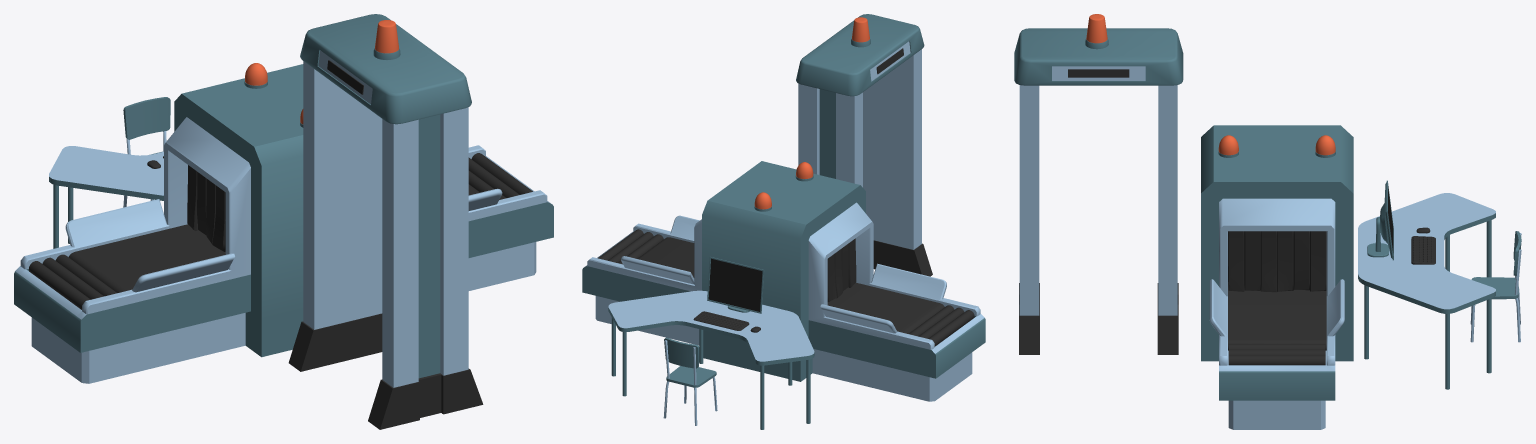
File: 09_SecurityCheck_AIRPORT_0.obj
The picture shows the model from 3 angles, left to right: view 1: azimuth 30°, elevation 25°; view 2: azimuth 150°, elevation 25°; view 3: azimuth 270°, elevation 25°; orthographic projection. The views are drawn at different scales.
Visible parts, largest first — view 1: 09.SecurityCheck_AIRPORT_0; view 2: 09.SecurityCheck_AIRPORT_0; view 3: 09.SecurityCheck_AIRPORT_0.
Part boxes in pixels (bbox=[...]): 09.SecurityCheck_AIRPORT_0: bbox=[14, 14, 553, 429]; 09.SecurityCheck_AIRPORT_0: bbox=[582, 14, 985, 429]; 09.SecurityCheck_AIRPORT_0: bbox=[1014, 14, 1521, 429].
Bounding box in the file's own units: 4.95 × 3.61 × 5.25.
1 material, 1 textured.
